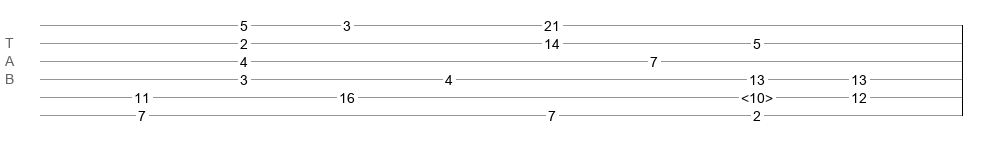11: (134, 90, 150, 100)
12: (851, 90, 867, 100)
13: (749, 72, 765, 82), (851, 72, 867, 82)
14: (544, 36, 560, 46)
16: (339, 90, 355, 100)
2: (240, 36, 248, 46), (753, 108, 761, 118)
21: (544, 18, 560, 28)
3: (240, 72, 248, 82), (343, 18, 351, 28)
4: (240, 54, 248, 64), (445, 72, 453, 82)
5: (240, 18, 248, 28), (753, 36, 761, 46)
7: (138, 108, 146, 118), (548, 108, 556, 118), (650, 54, 658, 64)
harmonic: (741, 90, 773, 100)
